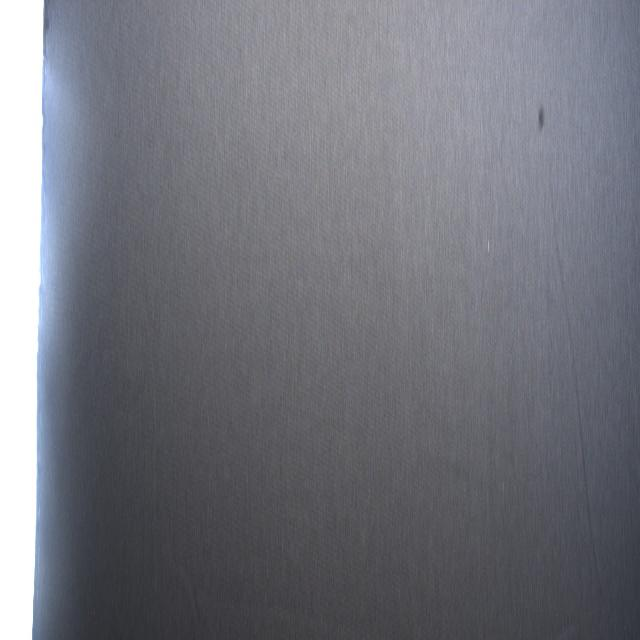crease: (545, 147, 609, 640), (168, 541, 208, 640)
